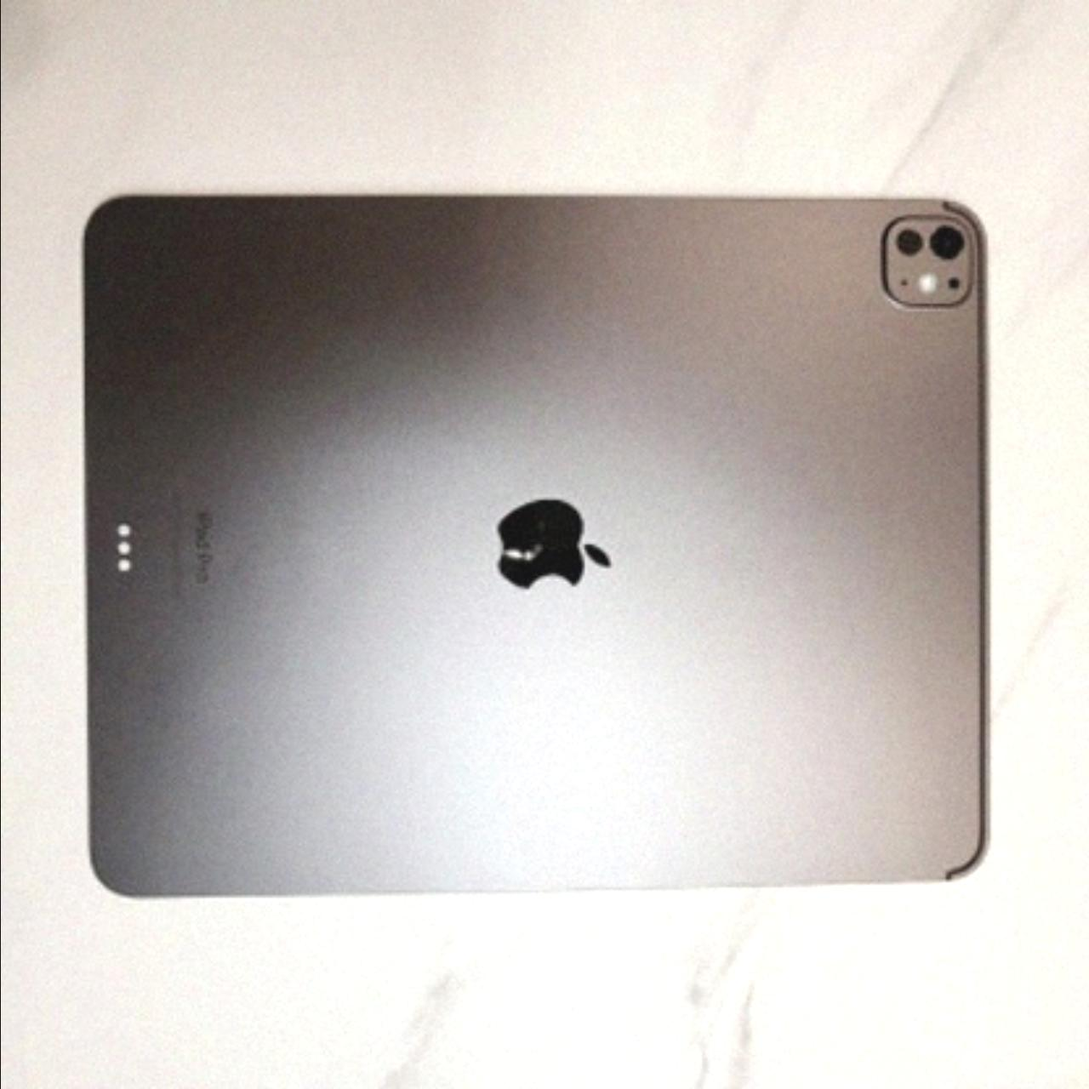Tablet_PC: (87, 181, 1002, 921)
